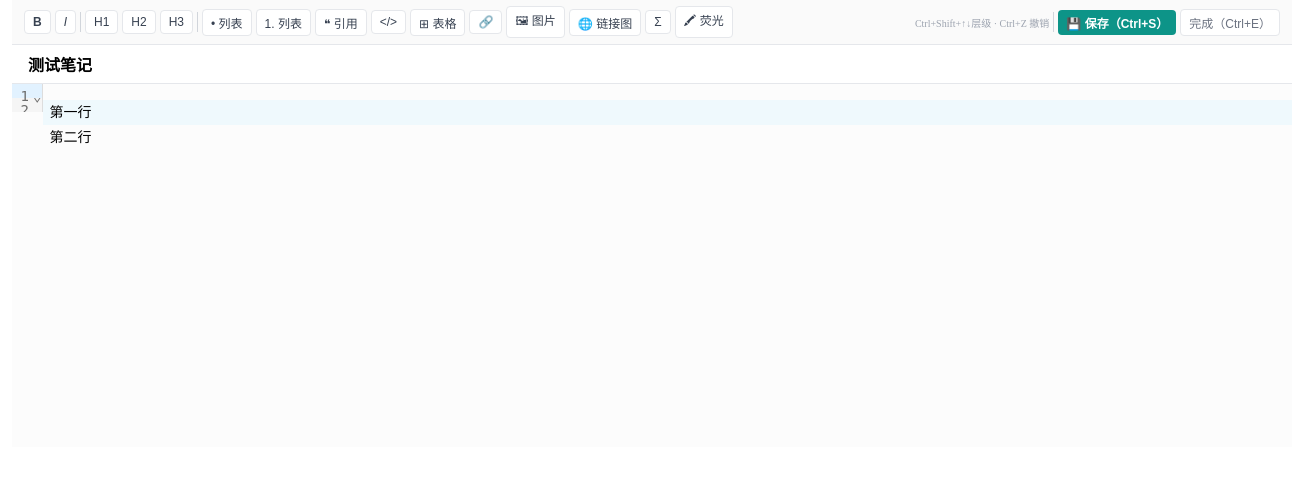
it: RichEditorView 选区右键菜单（批 8 REQ-317） › Ctrl+A 全选后右键 → 菜单含加入行动；点击后选区末行后插任务行
Press a in the field with class "cm-content", box [43,100,1292,145]
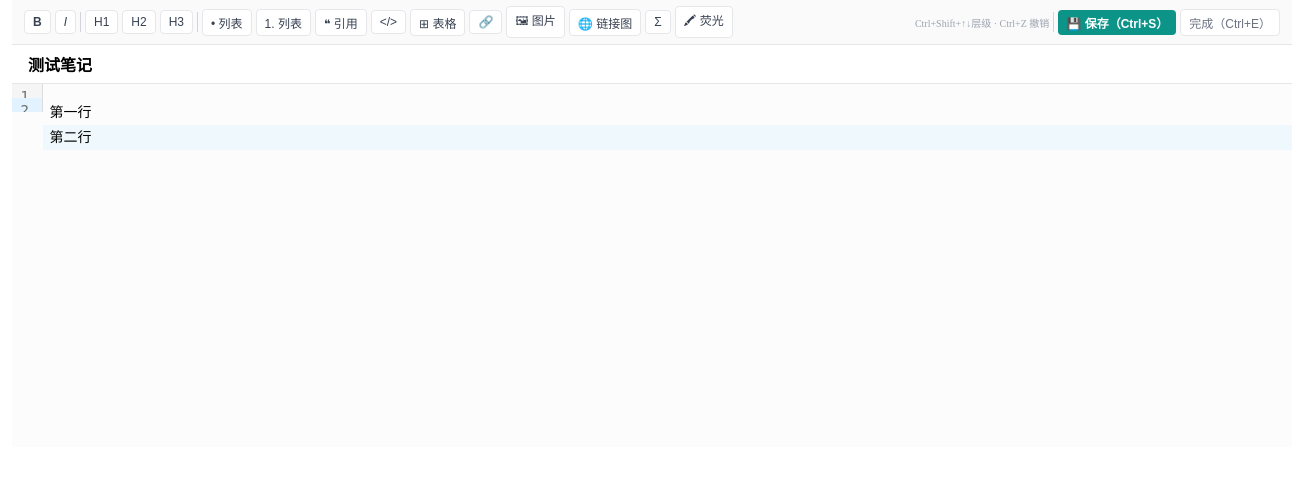
Right-click the field with class "cm-content" at (668, 127), box [43,104,1292,150]
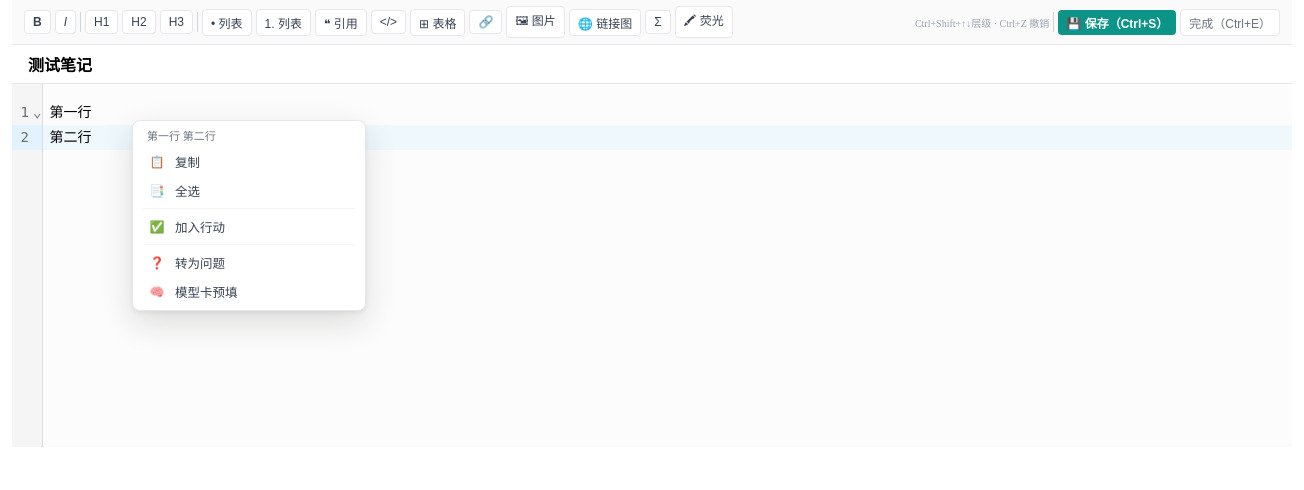
Now the menu with test id "note-sel-menu" is shown, box [132,120,366,311]
Now the button with test id "note-sel-copy" is shown, box [137,147,361,176]
Now the button with test id "note-sel-selectAll" is shown, box [137,176,361,205]
Click the button with test id "note-sel-addTask" at (249, 226), box [137,212,361,241]
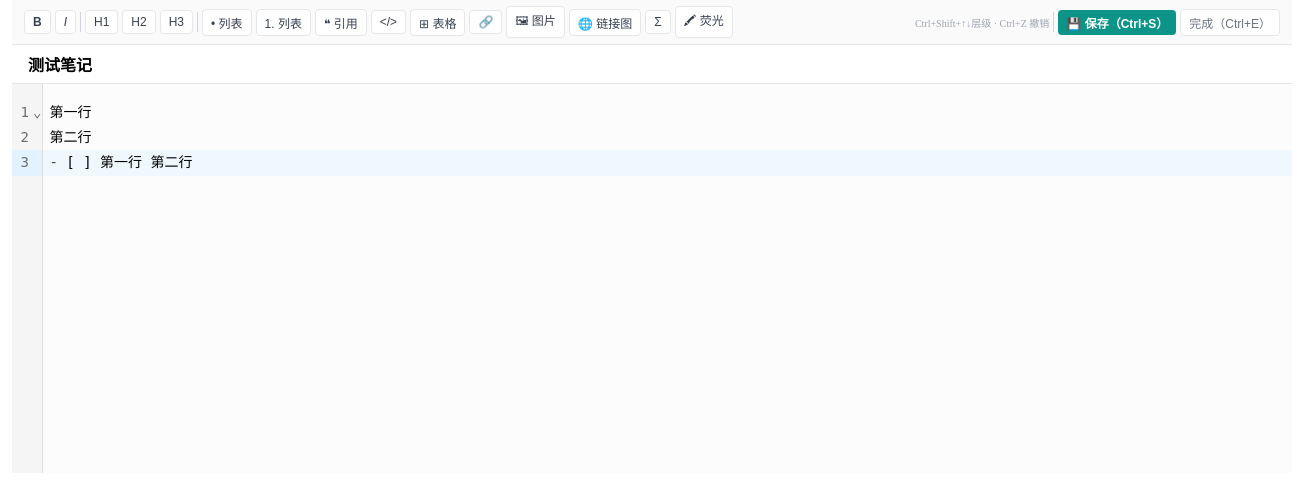
Now the field with class "cm-content" reads "第一行 第二行 - [ ] 第一行 第二行", box [43,104,1292,176]
